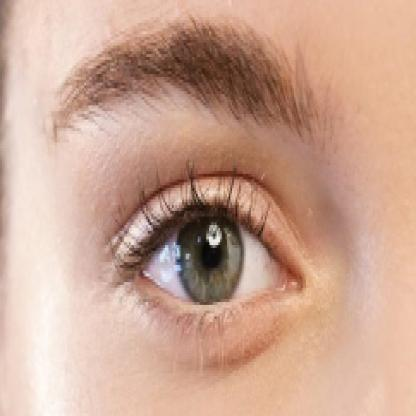wrinkle: (172, 339, 301, 365)
